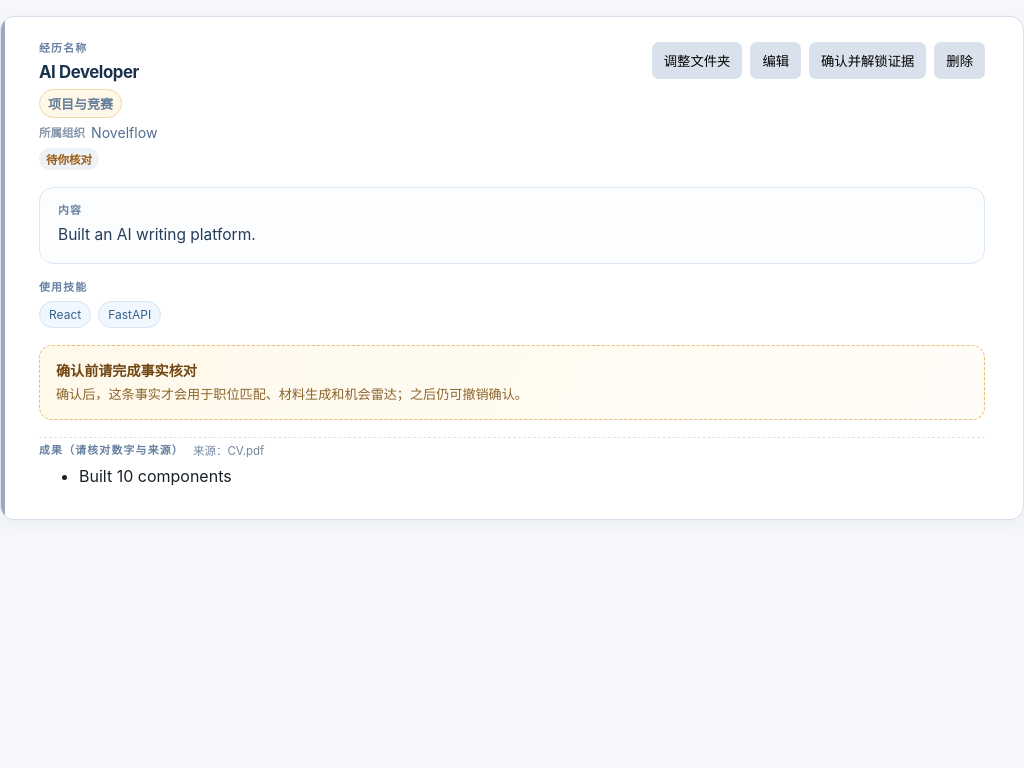
Test: ExperienceCard › confirms an experience and displays save failures
Click the button "确认并解锁证据".
click(868, 60)  # box x1=809 y1=42 x2=926 y2=79
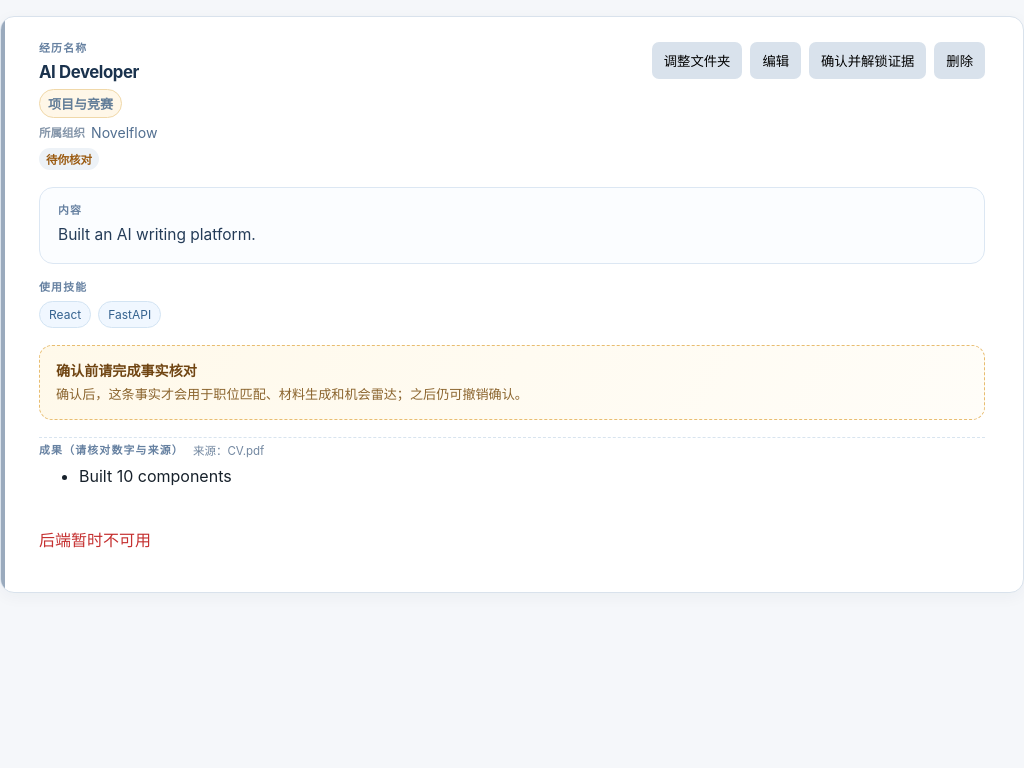
Expected: the message reads "后端暂时不可用", x1=39 y1=530 x2=151 y2=550
